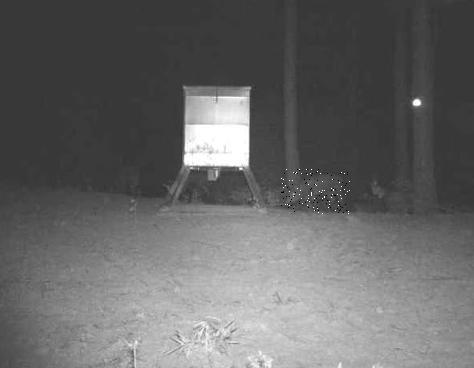Hog: (281, 169, 350, 214)
